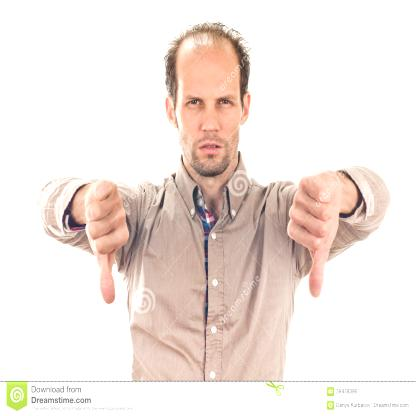Thumbs Down: (63, 157, 138, 312), (277, 167, 351, 308)
